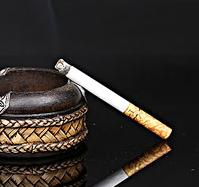smoke: (53, 56, 173, 142)
